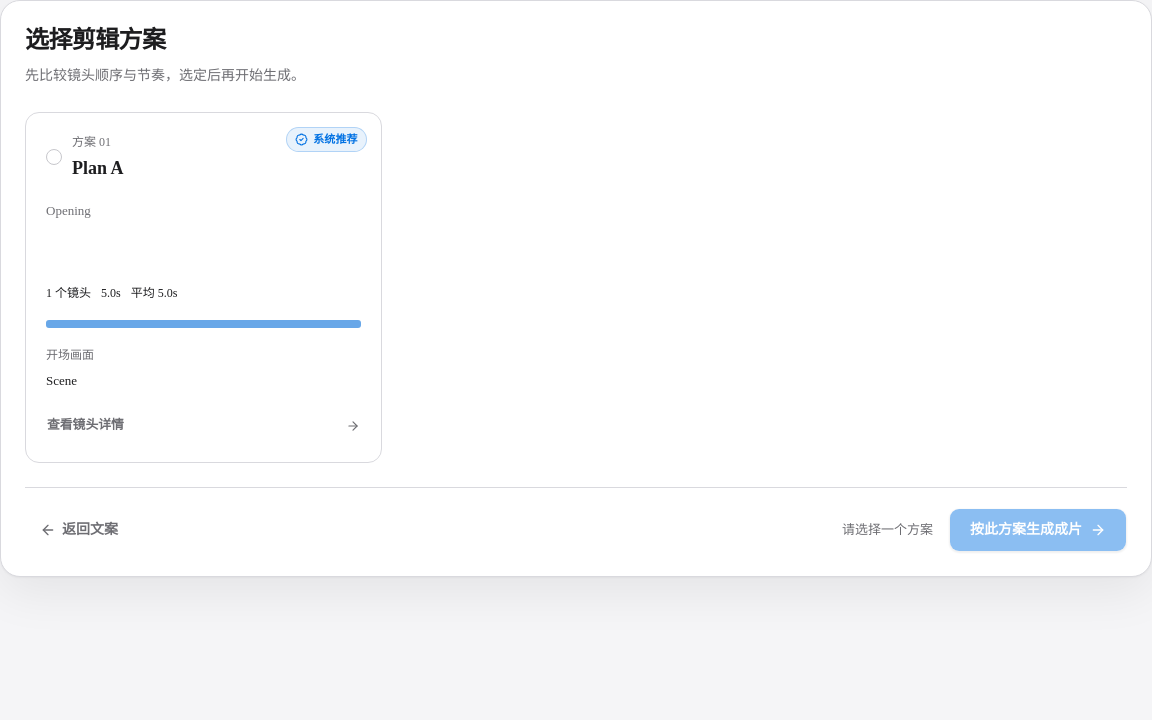
Scenario: AI edit decisions and recovery › opens shot details in a dialog without expanding a plan card
The width and height of the screenshot is (1152, 720).
Click the button "查看镜头详情": (85, 425) [46, 410, 361, 442]
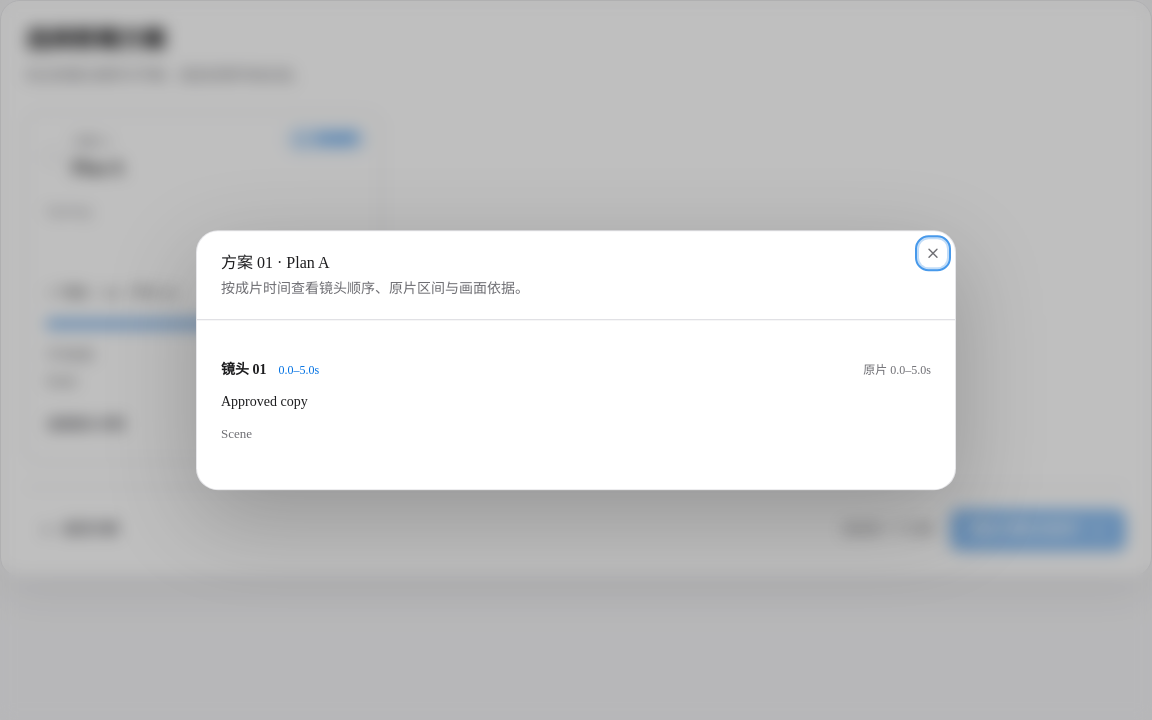
Expected: the text "方案 01 · Plan A" is shown, [221, 254, 330, 271]
Expected: the text "原片 0.0–5.0s" is shown, [863, 362, 931, 379]
